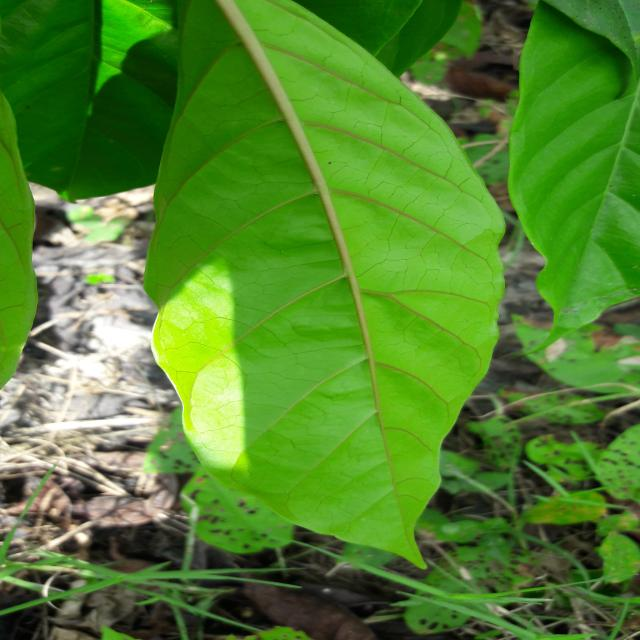Sanas: (143, 0, 504, 570)
